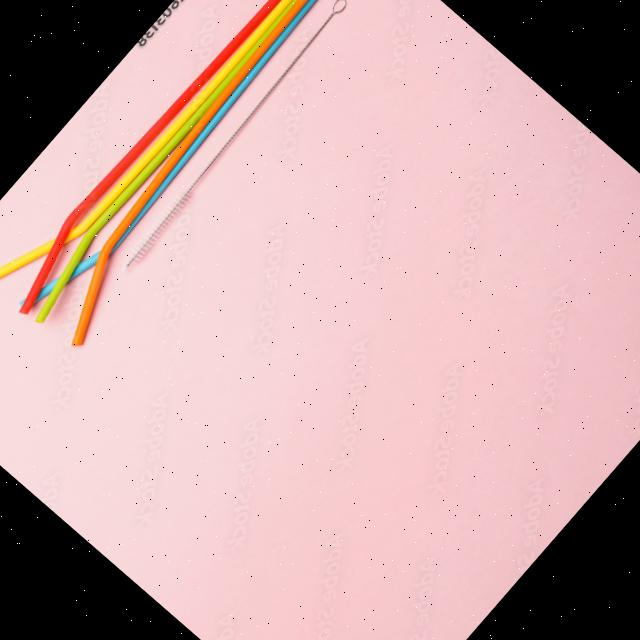plastic: (0, 0, 344, 343)
